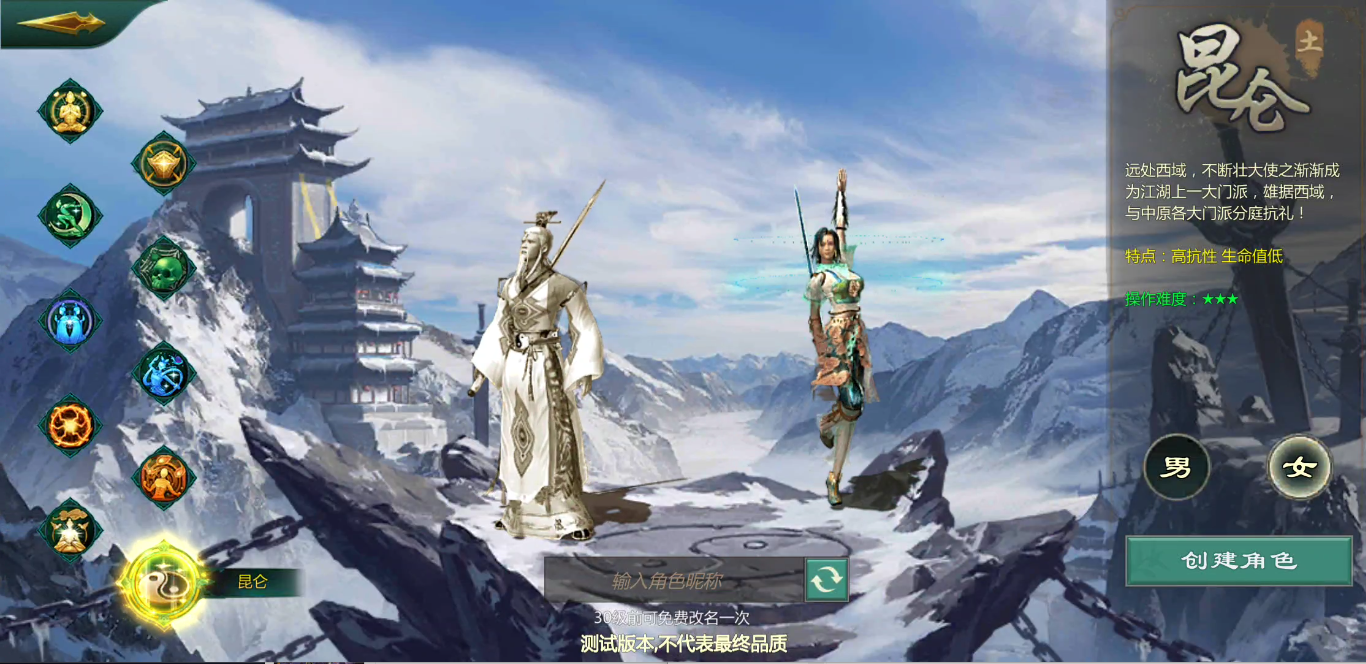cuiyan: (127, 339, 200, 410)
emei: (33, 290, 105, 354)
gaibang: (33, 389, 105, 462)
name: (805, 562, 850, 602)
shaolin: (38, 79, 107, 147)
tangmen: (38, 180, 105, 254)
tianren: (128, 444, 200, 514)
tianwang: (130, 130, 200, 200)
wudang: (37, 495, 107, 567)
wudu: (128, 232, 202, 304)
